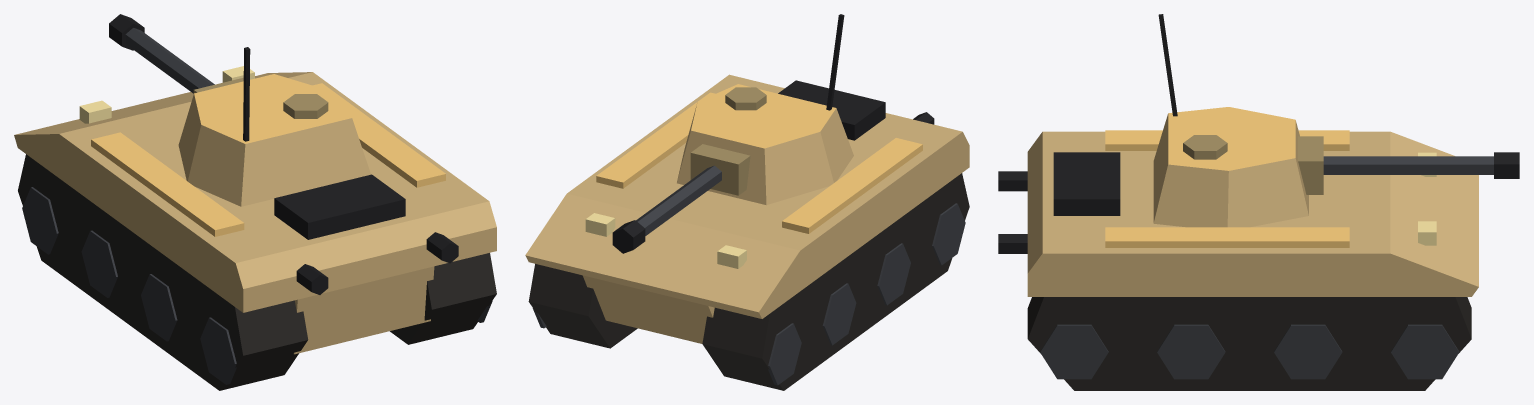
File: tank_light.glb
The picture shows the model from 3 angles, left to right: view 1: azimuth 30°, elevation 25°; view 2: azimuth 150°, elevation 25°; view 3: azimuth 270°, elevation 25°; orthographic projection. The views are drawn at different scales.
Parts seen in each view (by area): view 1: tank_light, Turret; view 2: tank_light, Turret; view 3: tank_light, Turret.
Part boxes in pixels (x1,y1,x2,y2): tank_light: (14, 66, 496, 390); Turret: (109, 14, 370, 206); tank_light: (525, 74, 969, 390); Turret: (612, 14, 853, 253); tank_light: (998, 130, 1478, 390); Turret: (1153, 14, 1519, 227).
Bounding box in the file's own units: 0.792 × 0.8612 × 1.41.
